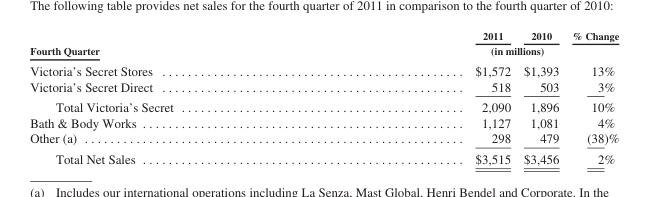table: (29, 29, 618, 165)
table column: (29, 29, 323, 165), (323, 29, 516, 165), (565, 29, 618, 165), (516, 29, 565, 165)
table column header: (29, 29, 618, 42)
table row: (29, 42, 618, 60), (29, 60, 618, 78), (29, 78, 618, 96), (29, 96, 618, 114), (29, 130, 618, 148), (29, 148, 618, 165), (29, 114, 618, 130), (29, 29, 618, 42)
table spanning cell: (323, 42, 565, 60)
